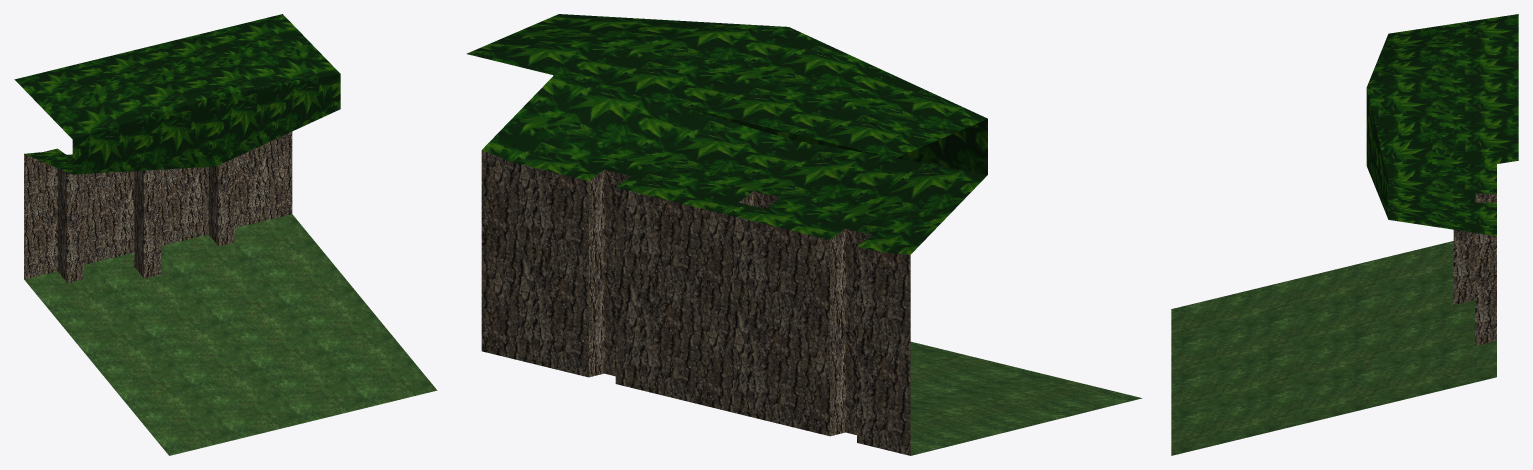
Rendered from woodsTrimEdge.gltf.
3 renders of one model, left to right at view 1: azimuth 30°, elevation 25°; view 2: azimuth 150°, elevation 25°; view 3: azimuth 270°, elevation 25°, orthographic. The views are drawn at different scales.
Visible parts, largest first — view 1: woodsTrimEdge; view 2: woodsTrimEdge; view 3: woodsTrimEdge.
Part boxes in pixels (x1=…): woodsTrimEdge: x1=14, y1=14, x2=437, y2=455; woodsTrimEdge: x1=466, y1=14, x2=1142, y2=455; woodsTrimEdge: x1=1171, y1=14, x2=1518, y2=455.
Bounding box in the file's own units: 32 × 30 × 32.
Materials: 3 (3 with a texture image).
